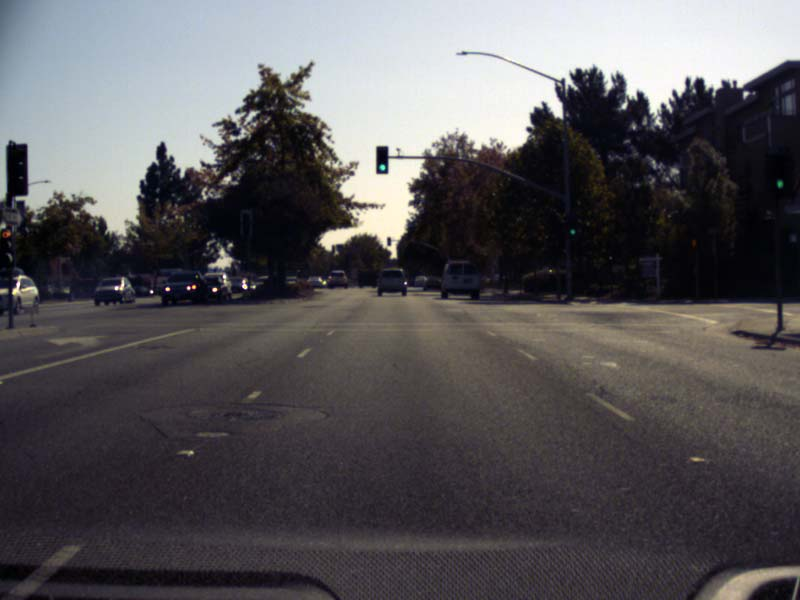Green: (771, 153, 792, 199), (376, 145, 387, 173), (566, 215, 577, 239)
Red: (0, 228, 12, 266)
